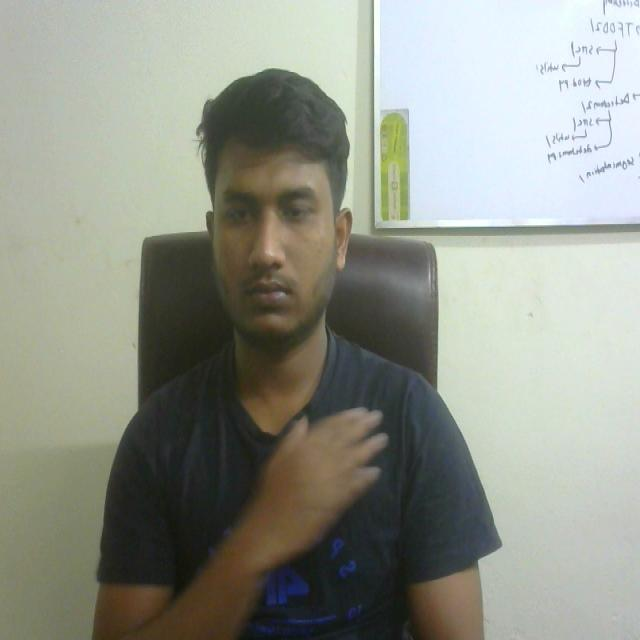E: (217, 372, 413, 597)
